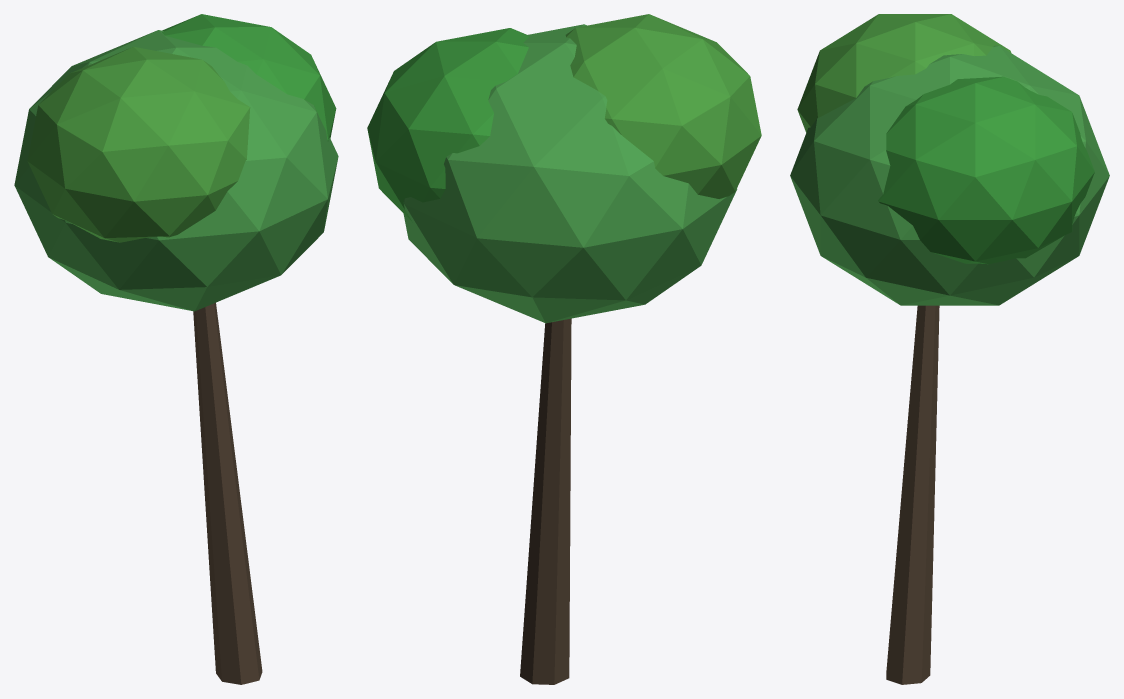
Rendered from tree_oak_4.glb.
3 renders of one model, left to right at view 1: azimuth 30°, elevation 25°; view 2: azimuth 150°, elevation 25°; view 3: azimuth 270°, elevation 25°, orthographic. The views are drawn at different scales.
Visible parts, largest first — view 1: Icosphere, Icosphere.002, Trunk, Icosphere.001; view 2: Icosphere, Icosphere.002, Icosphere.001, Trunk; view 3: Icosphere, Icosphere.001, Trunk, Icosphere.002.
Part boxes in pixels (bbox=[...]): Icosphere: bbox=[14, 30, 338, 311]; Icosphere.002: bbox=[27, 46, 250, 242]; Trunk: bbox=[193, 302, 262, 684]; Icosphere.001: bbox=[162, 14, 336, 140]; Icosphere: bbox=[403, 24, 737, 323]; Icosphere.002: bbox=[565, 14, 761, 198]; Icosphere.001: bbox=[367, 28, 528, 221]; Trunk: bbox=[520, 318, 571, 684]; Icosphere: bbox=[790, 45, 1109, 305]; Icosphere.001: bbox=[878, 76, 1094, 264]; Trunk: bbox=[886, 305, 939, 684]; Icosphere.002: bbox=[797, 14, 1011, 132].
Size of the model in its own units: 3.39 by 6.79 by 3.22.
